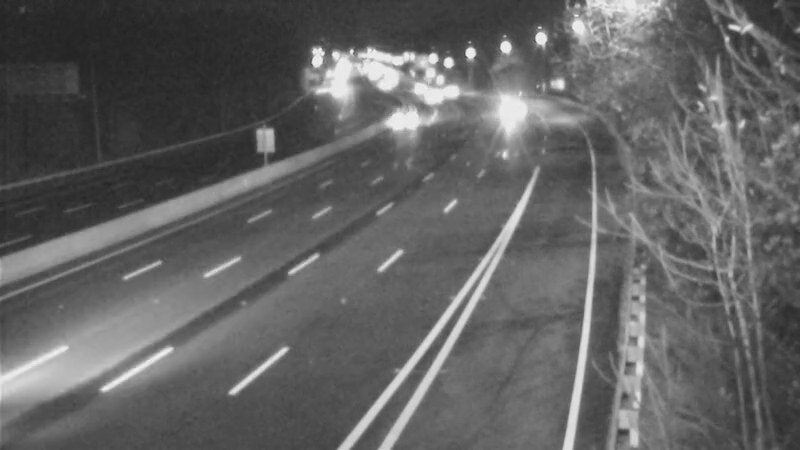vehicle: (388, 61, 438, 111), (423, 63, 473, 113), (400, 71, 450, 121), (484, 80, 534, 130), (377, 91, 427, 141)
